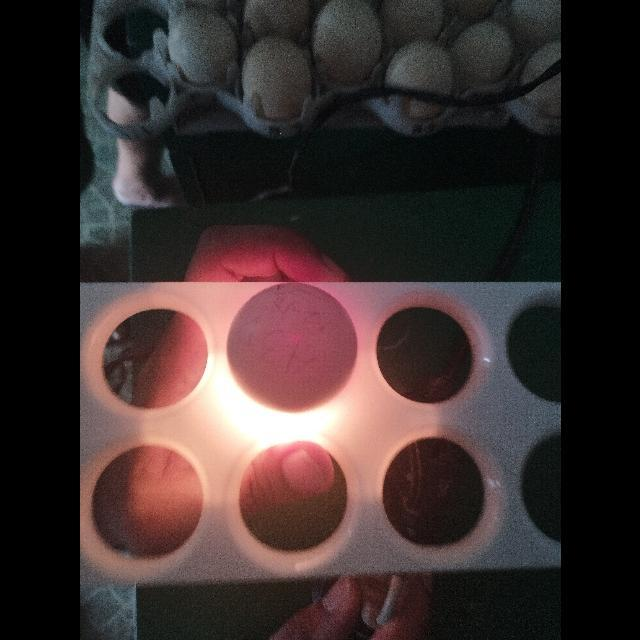Fertile: (225, 282, 358, 414)
